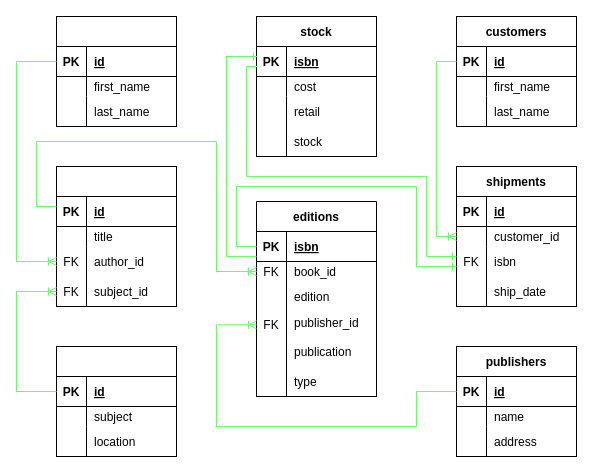
The diagram is 593 pixels wide and 473 high, and some of its shapes have lost their labels. Each missing label, with the box of its shape:
authors: (56, 16, 176, 126)
books: (56, 166, 176, 306)
subjects: (56, 346, 176, 456)
